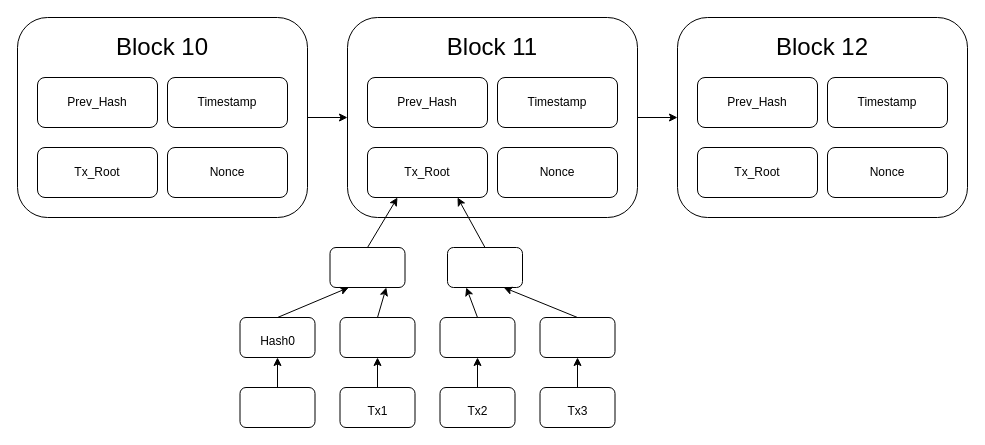
Some shapes in this 985 by 445 pixel diagram are drawn without their labels. Here are the shapes that lost their labels. From the top down, the centre of each, then its label:
point 367,267: Hash01
point 484,267: Hash23
point 377,337: Hash1
point 477,337: Hash2
point 577,337: Hash3
point 277,407: Tx0
